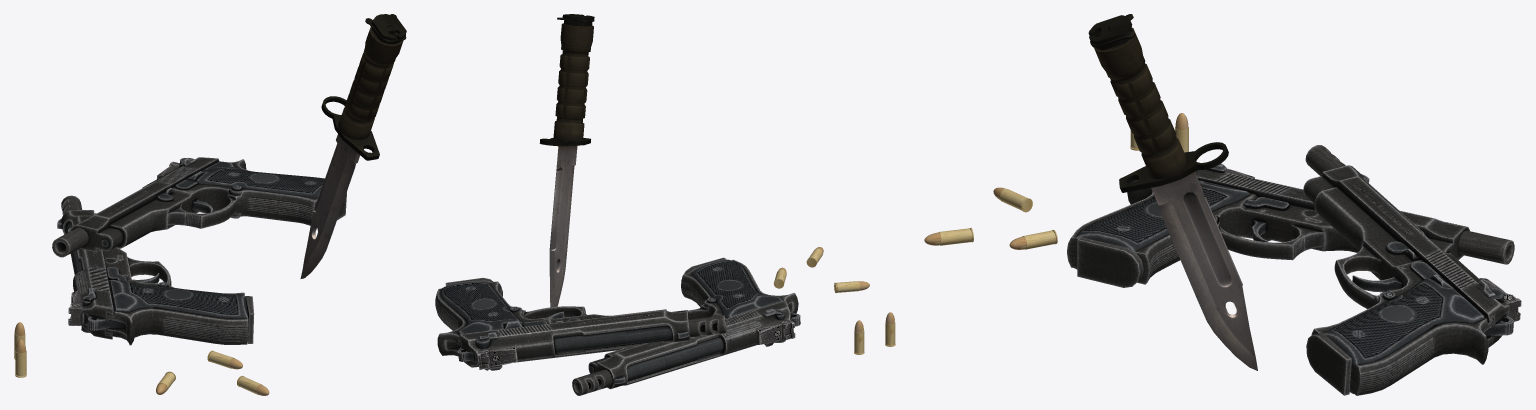
File: pistols.fbx
The picture shows the model from 3 angles, left to right: view 1: azimuth 30°, elevation 25°; view 2: azimuth 150°, elevation 25°; view 3: azimuth 270°, elevation 25°; orthographic projection. The views are drawn at different scales.
Parts seen in each view (by area): view 1: Pistol01_Body04, M9_Knife, pCylinder7; view 2: Pistol01_Body04, M9_Knife, pCylinder7; view 3: Pistol01_Body04, M9_Knife, pCylinder7.
Boxes of the visible parts, left/top/right/bottom form: Pistol01_Body04: left=52, top=157, right=346, bottom=345; M9_Knife: left=300, top=14, right=406, bottom=278; pCylinder7: left=14, top=322, right=269, bottom=395; Pistol01_Body04: left=435, top=257, right=800, bottom=395; M9_Knife: left=539, top=14, right=594, bottom=307; pCylinder7: left=773, top=247, right=895, bottom=354; Pistol01_Body04: left=1067, top=145, right=1521, bottom=395; M9_Knife: left=1088, top=14, right=1257, bottom=370; pCylinder7: left=924, top=113, right=1188, bottom=249.
Size of what is drawn, in the model's own units: 4.4 by 2.95 by 4.34.
